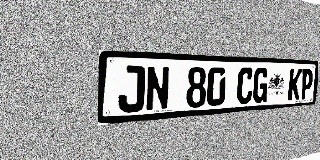0: (206, 67, 226, 107)
8: (186, 66, 208, 108)
C: (236, 68, 254, 104)
G: (252, 68, 269, 103)
J: (118, 65, 145, 113)
K: (287, 69, 302, 101)
N: (145, 66, 170, 111)
P: (300, 69, 313, 100)
